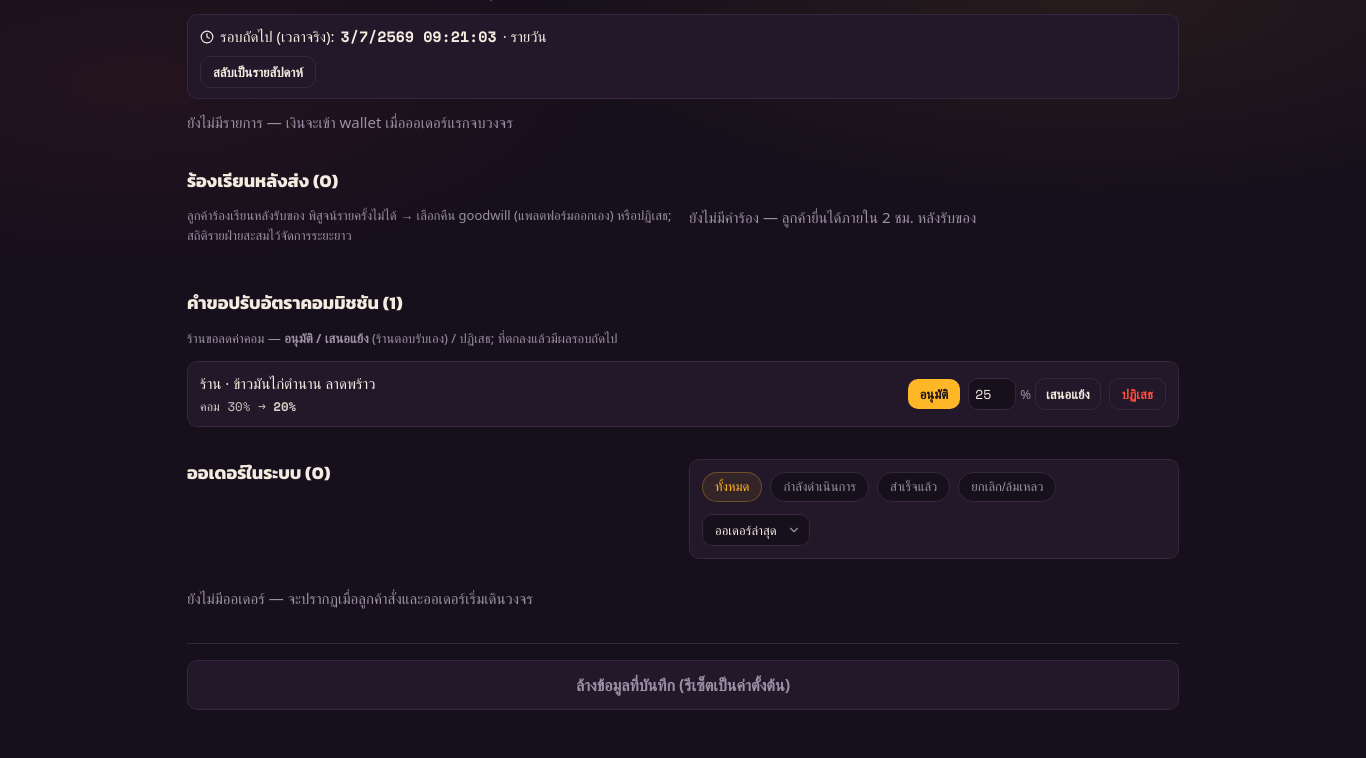
Test: Admin — หลายออเดอร์ + suspend + force-cancel › เจรจาอัตราคอมสองทาง (ADR 0003): แอดมินเสนอแย้ง → คำขอเข้าสถานะ countered (รอร้านตอบ)
(page scrolled)
Click the button with aria-label "เสนอแย้ง ร้าน". click: (1068, 394)
box: [1035,378,1101,410]
(page scrolled)
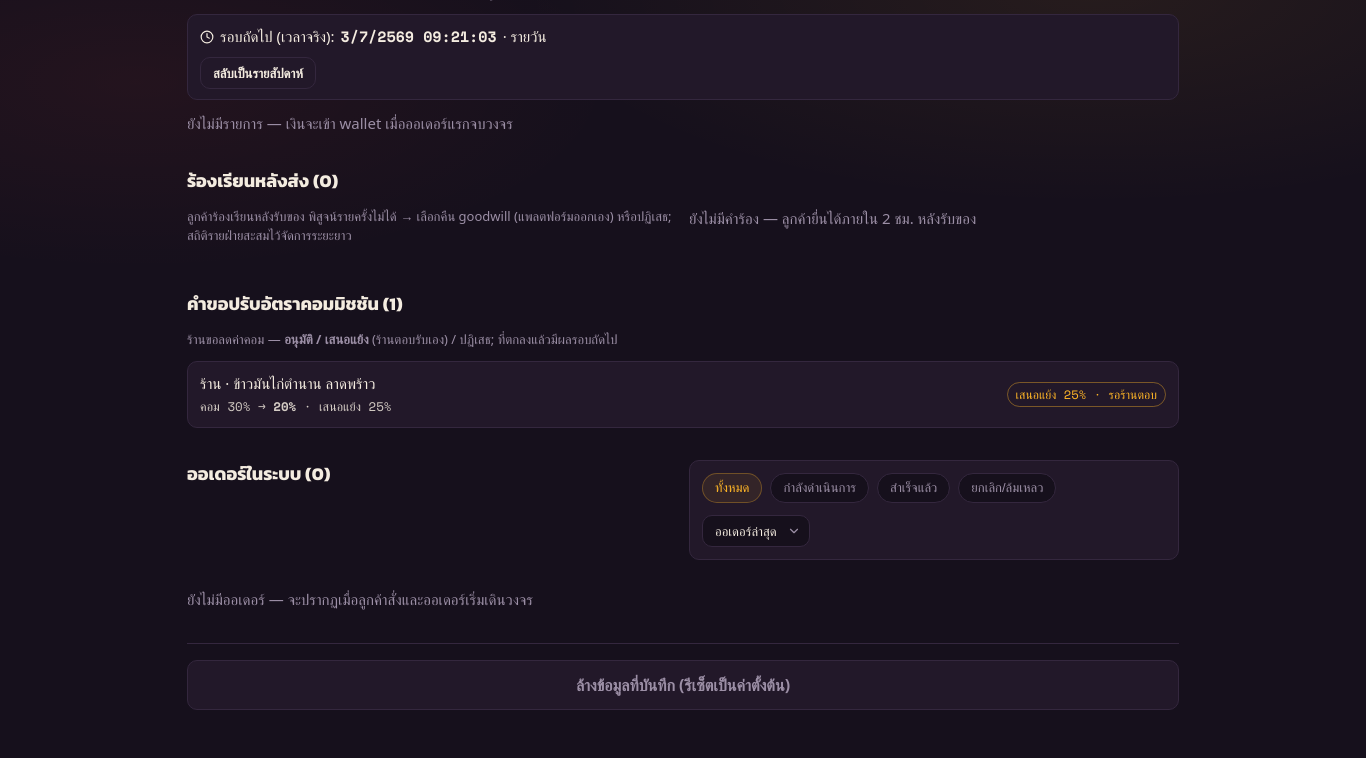
Check: the text "เสนอแย้ง 25% · รอร้านตอบ" is shown, box [1006,382,1166,407]
